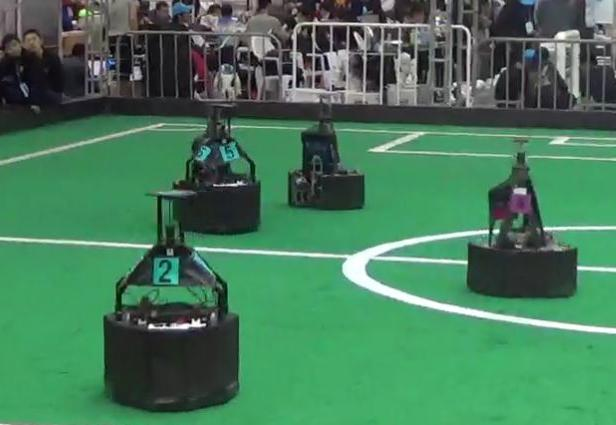robot: (95, 188, 247, 415), (458, 127, 586, 307), (155, 92, 266, 235), (280, 88, 373, 218)
